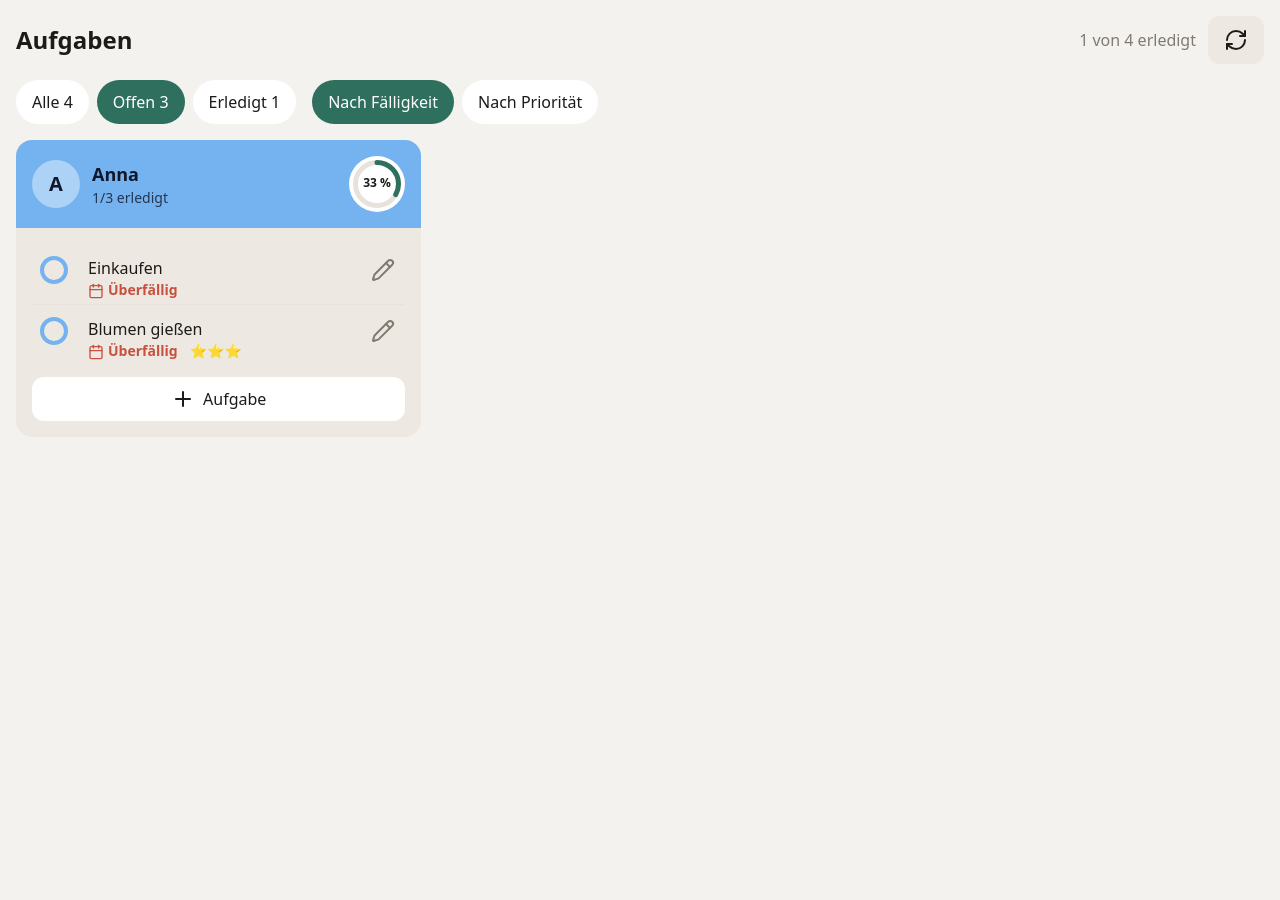
Scenario: TasksView › opens the dialog for a new task and closes it again
Click the button with aria-label "Aufgabe hinzufügen" at (219, 399), box [32,377,405,421]
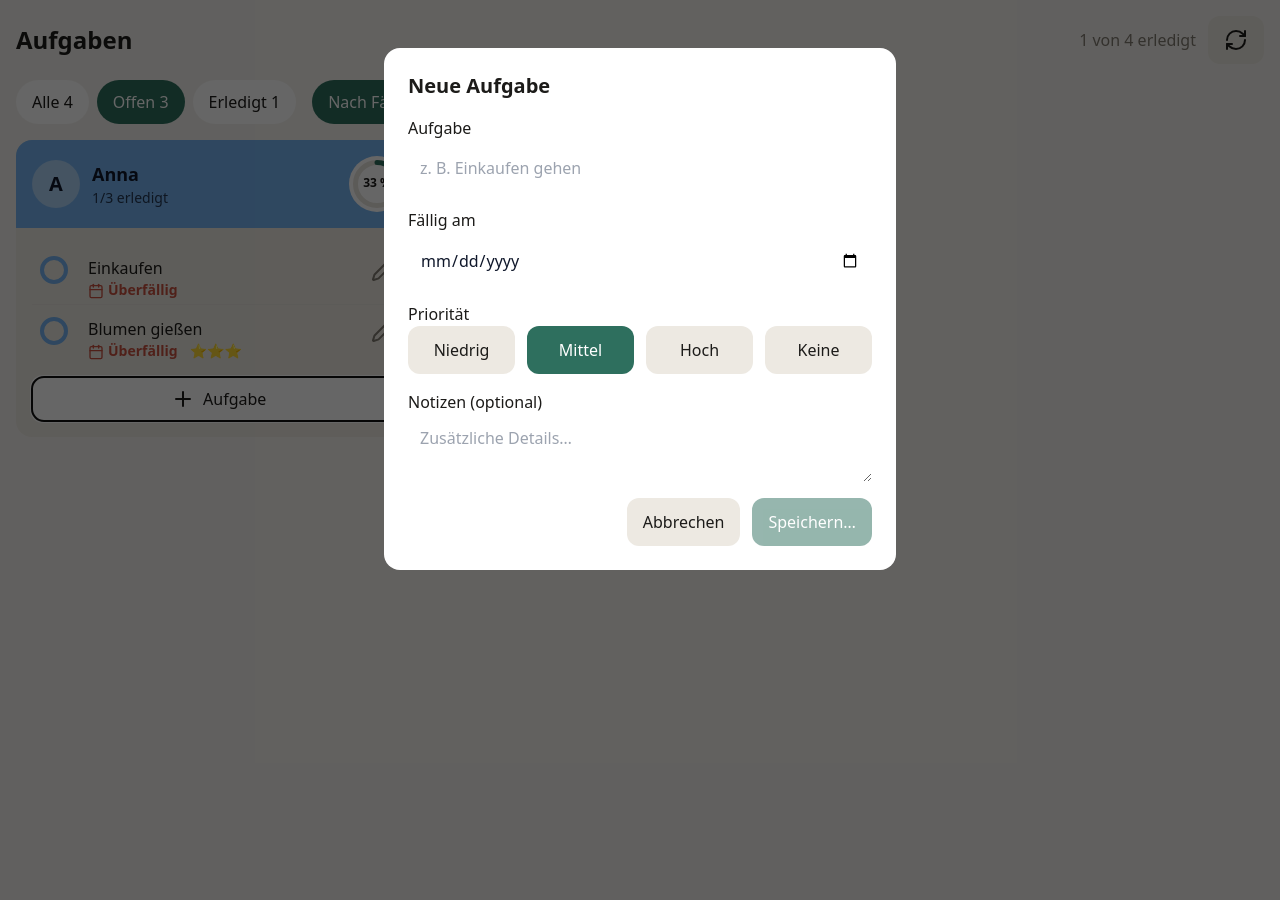
Now the dialog "Neue Aufgabe" is shown
Click the button "Abbrechen" at (684, 522), box [627,498,740,546]
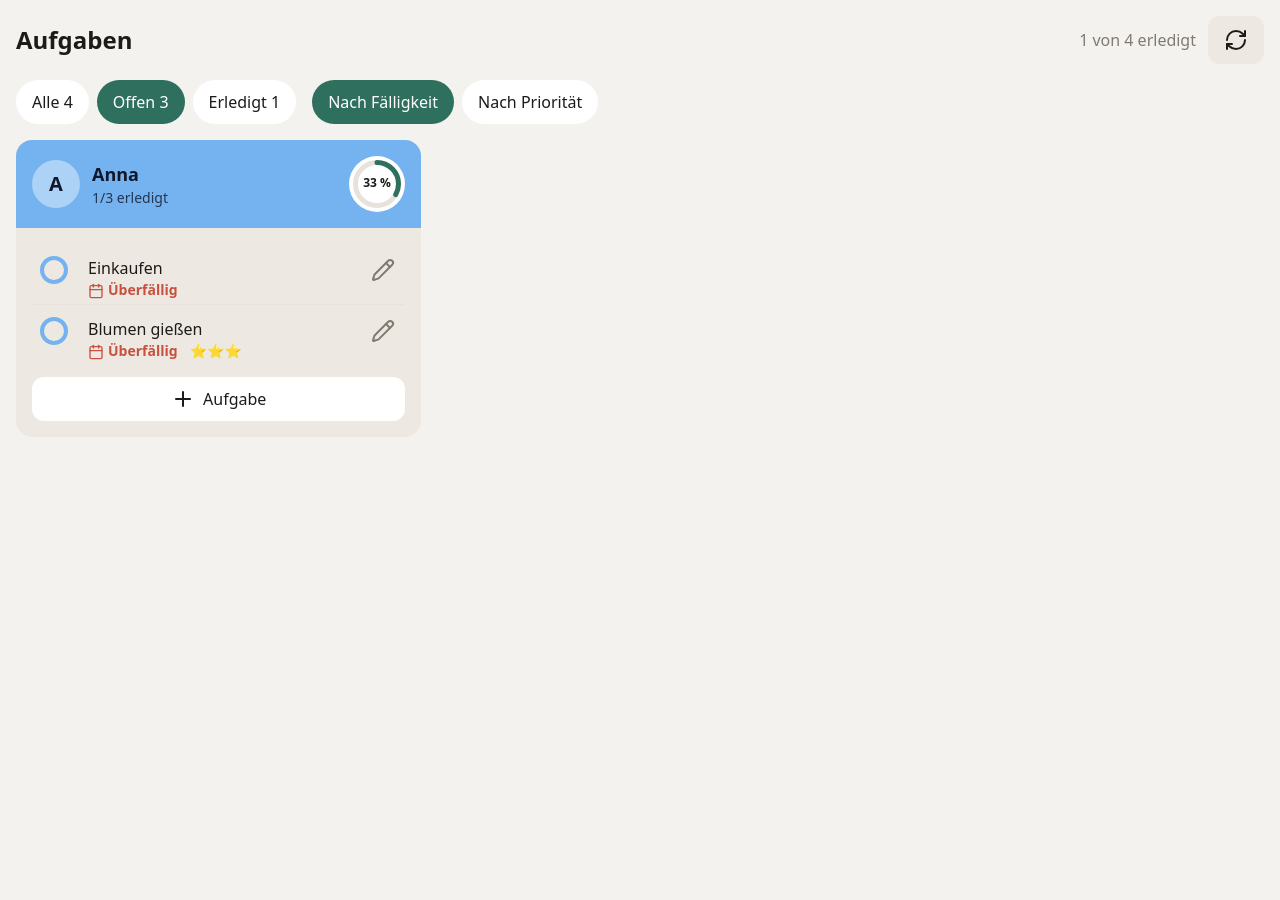
Now the dialog is gone
